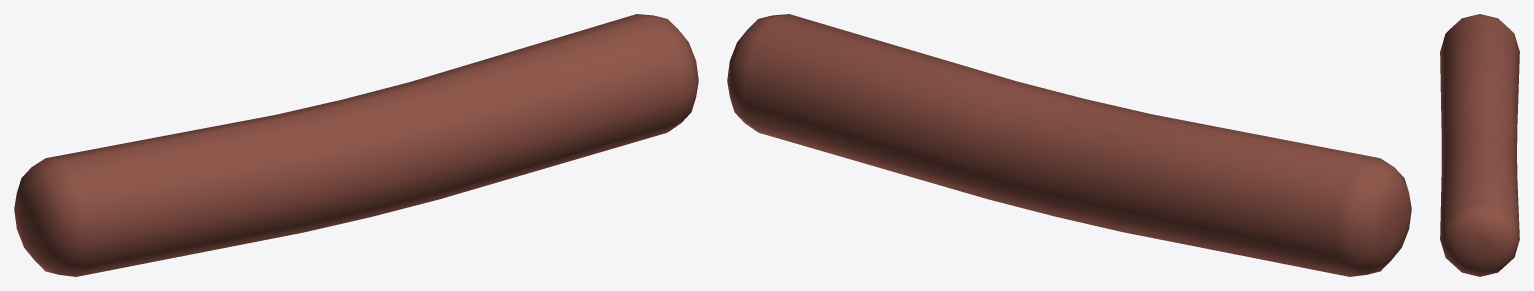
Rendered from Sausage.005.fbx.
3 renders of one model, left to right at view 1: azimuth 30°, elevation 25°; view 2: azimuth 150°, elevation 25°; view 3: azimuth 270°, elevation 25°, orthographic. The views are drawn at different scales.
Parts seen in each view (by area): view 1: Sausage.005; view 2: Sausage.005; view 3: Sausage.005.
Part boxes in pixels (left/top/right/bottom): Sausage.005: left=14, top=14, right=698, bottom=276; Sausage.005: left=727, top=14, right=1411, bottom=276; Sausage.005: left=1440, top=14, right=1519, bottom=276.
Bounding box in the file's own units: 160 × 25.95 × 28.84.
